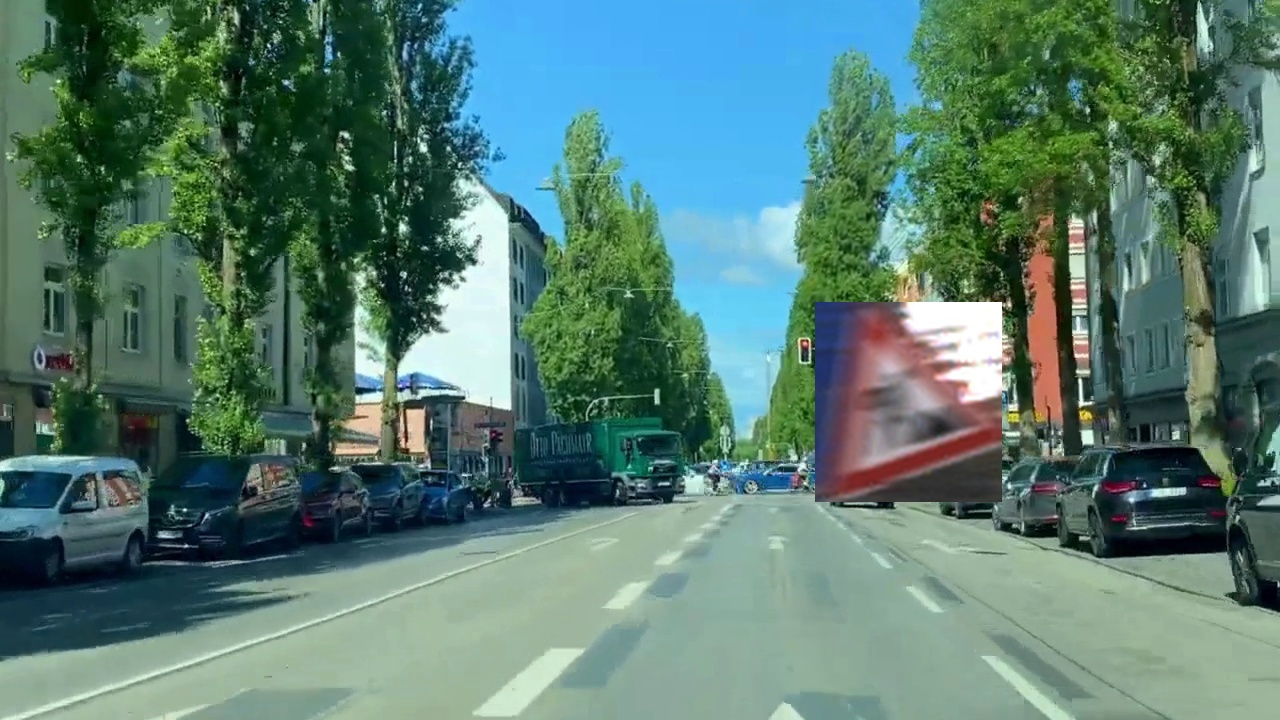Road work: (815, 302, 1002, 502)
